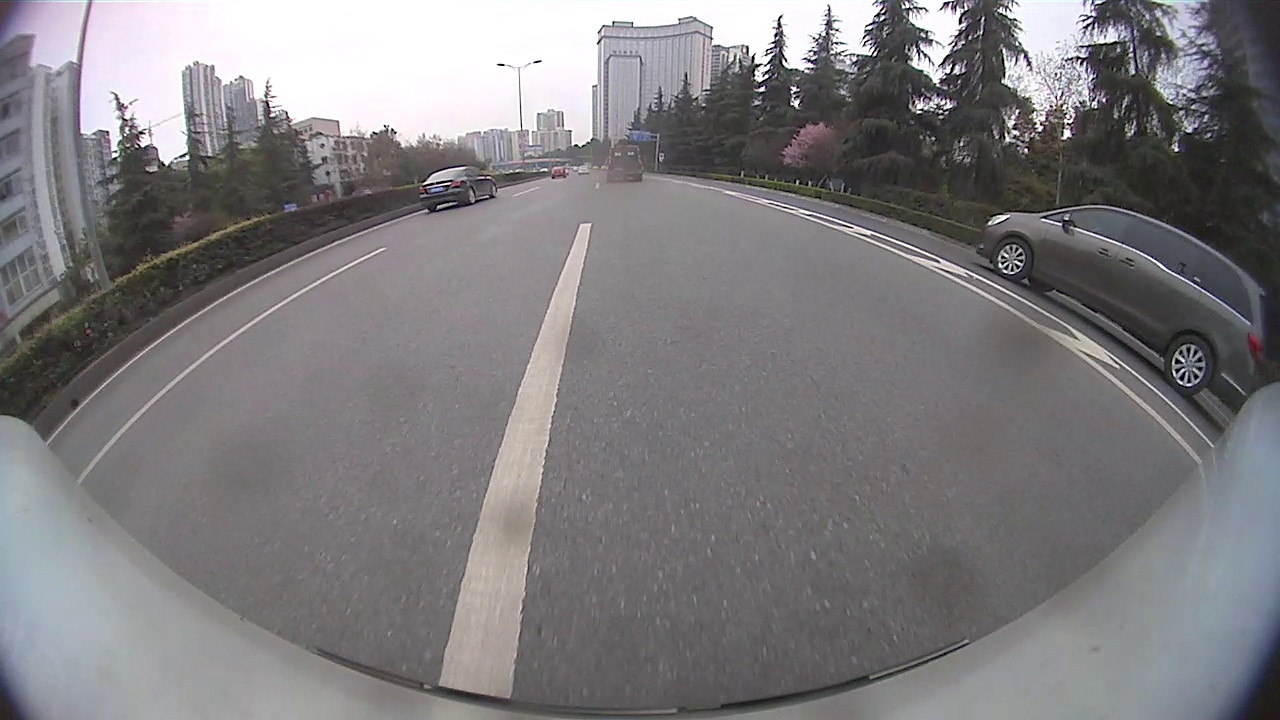car: (975, 201, 1269, 410), (416, 161, 499, 213), (606, 143, 644, 184)
front: (994, 237, 1033, 281)
rear: (1165, 334, 1214, 395), (468, 187, 478, 206)
